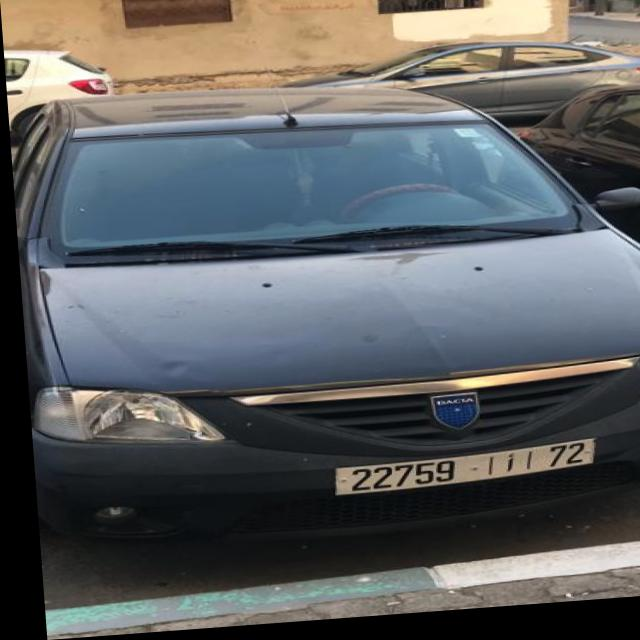License-Plate: (329, 448, 588, 500)
